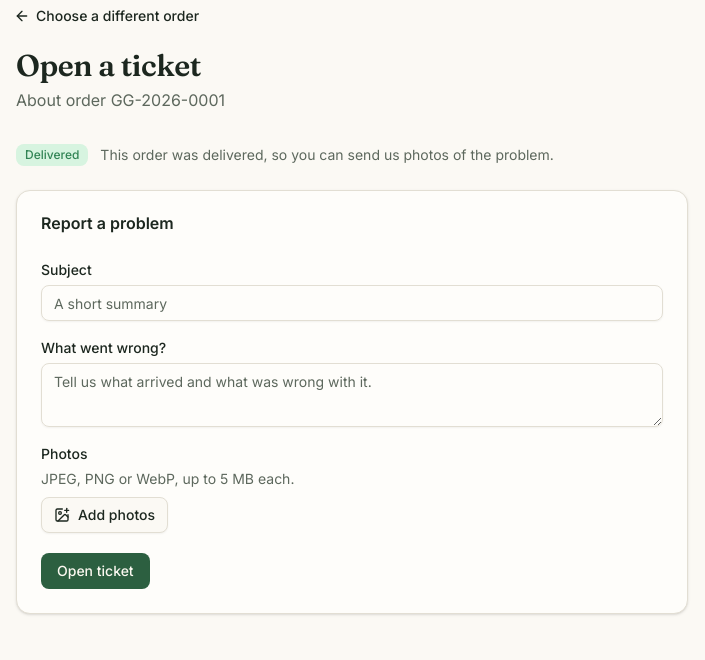
Test: validation › requires a photo before a delivery problem can be sent
Expected: the text "Report a problem" is shown, [41,213,174,233]
Type "Crushed on arrival" into the field labelled "Subject" at point(352, 303), box [41,285,663,321]
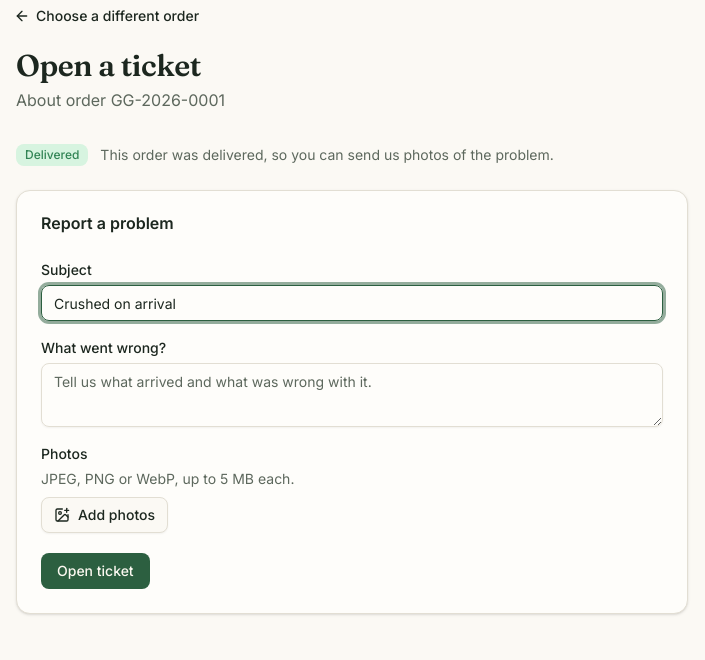
Type "Half the stems were snapped when the box arrived this morning." into the text box labelled "What went wrong?" at point(352, 395), box [41,363,663,427]
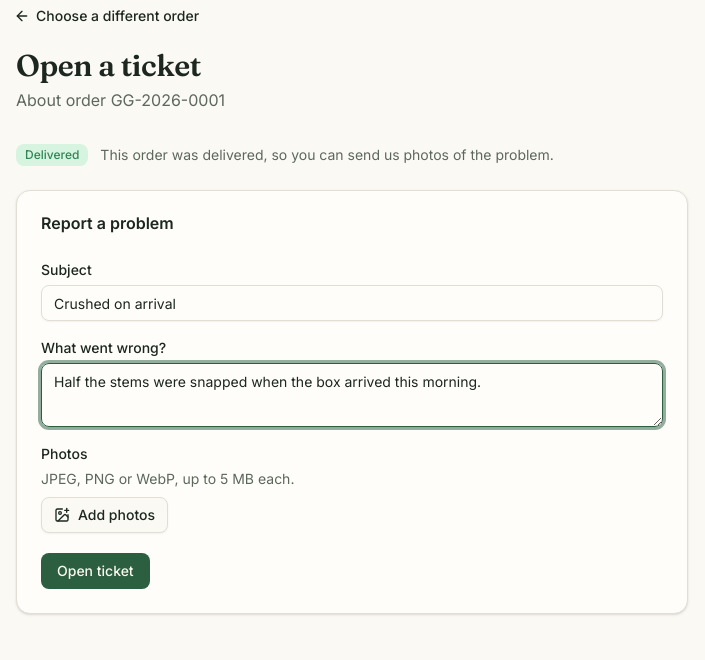
Click the button "Open ticket" at point(95, 571), box [41,553,150,589]
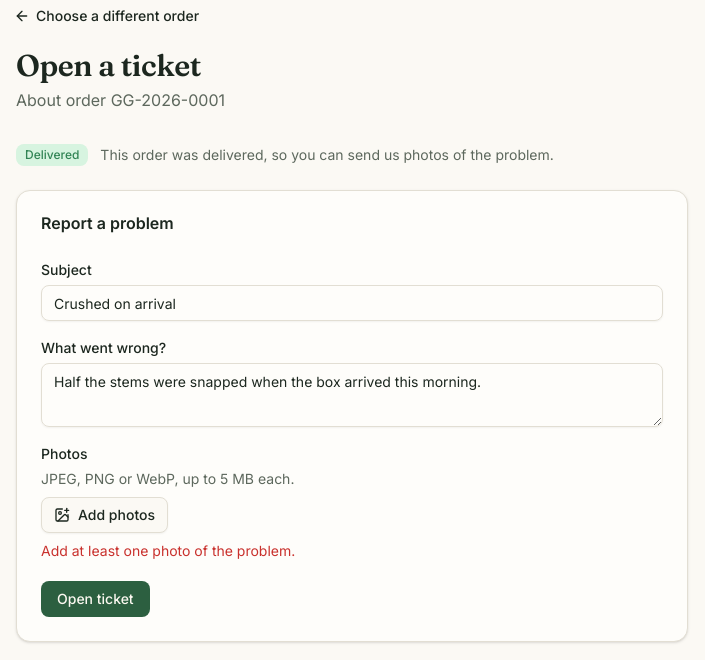
Expected: the text "Add at least one photo of the problem." is shown, [41,542,295,559]
